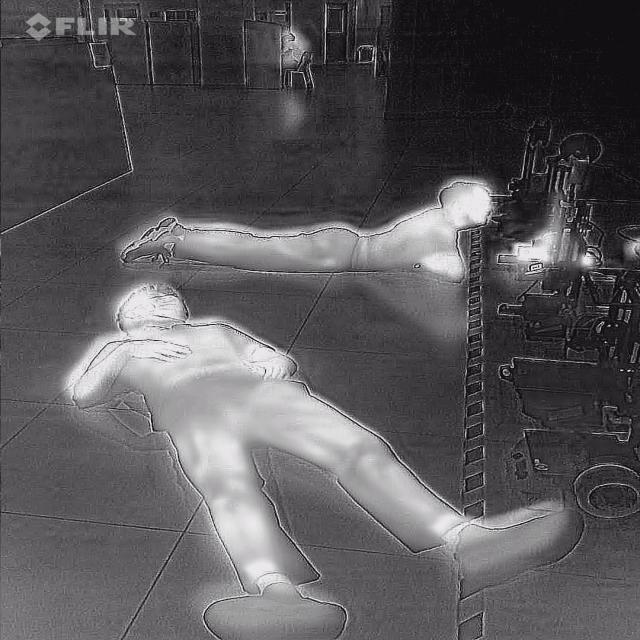Victim: (78, 287, 571, 638), (121, 181, 492, 276)
